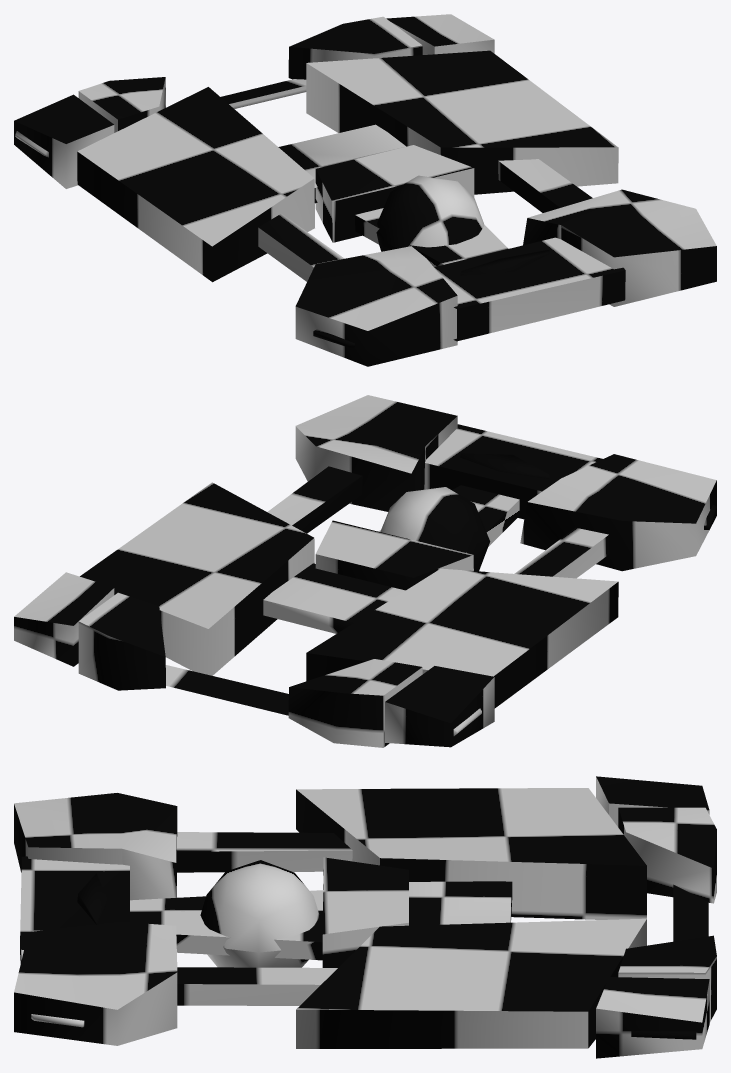
The model's file is protegit.obj.
3 views of the same model, one above another, from view 1: azimuth 30°, elevation 25°; view 2: azimuth 150°, elevation 25°; view 3: azimuth 270°, elevation 25° (orthographic). The views are drawn at different scales.
Visible parts, largest first — view 1: protegit; view 2: protegit; view 3: protegit.
Boxes of the visible parts, left/top/right/bottom form: protegit: left=14, top=14, right=716, bottom=366; protegit: left=14, top=395, right=716, bottom=747; protegit: left=14, top=776, right=716, bottom=1058.
Bounding box in the file's own units: 36.9 × 8.31 × 45.77.
1 material, 1 textured.
